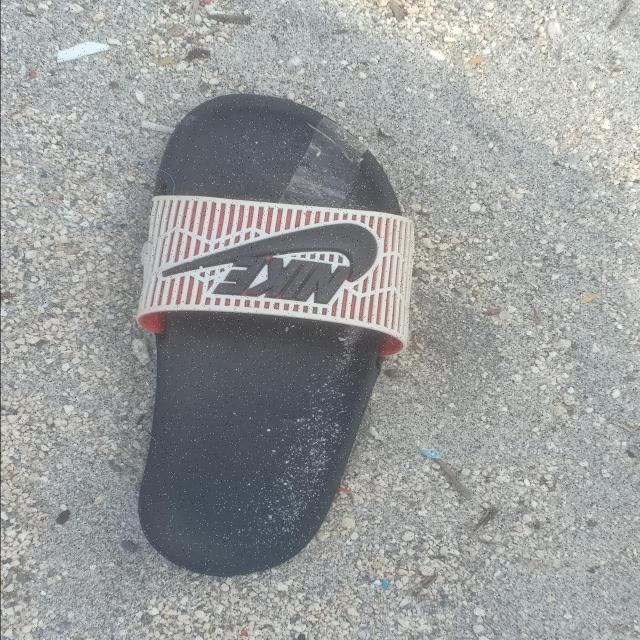rubber_waste: (136, 96, 414, 580)
